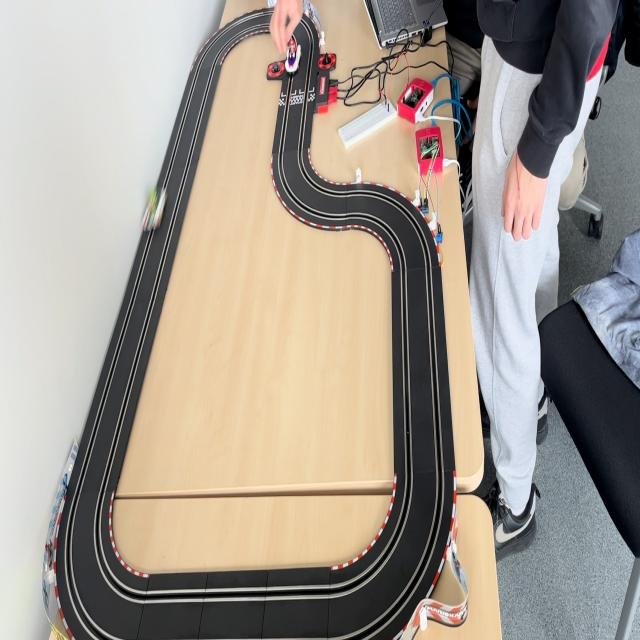mario: (282, 34, 302, 78)
yoshi: (142, 186, 171, 232)
